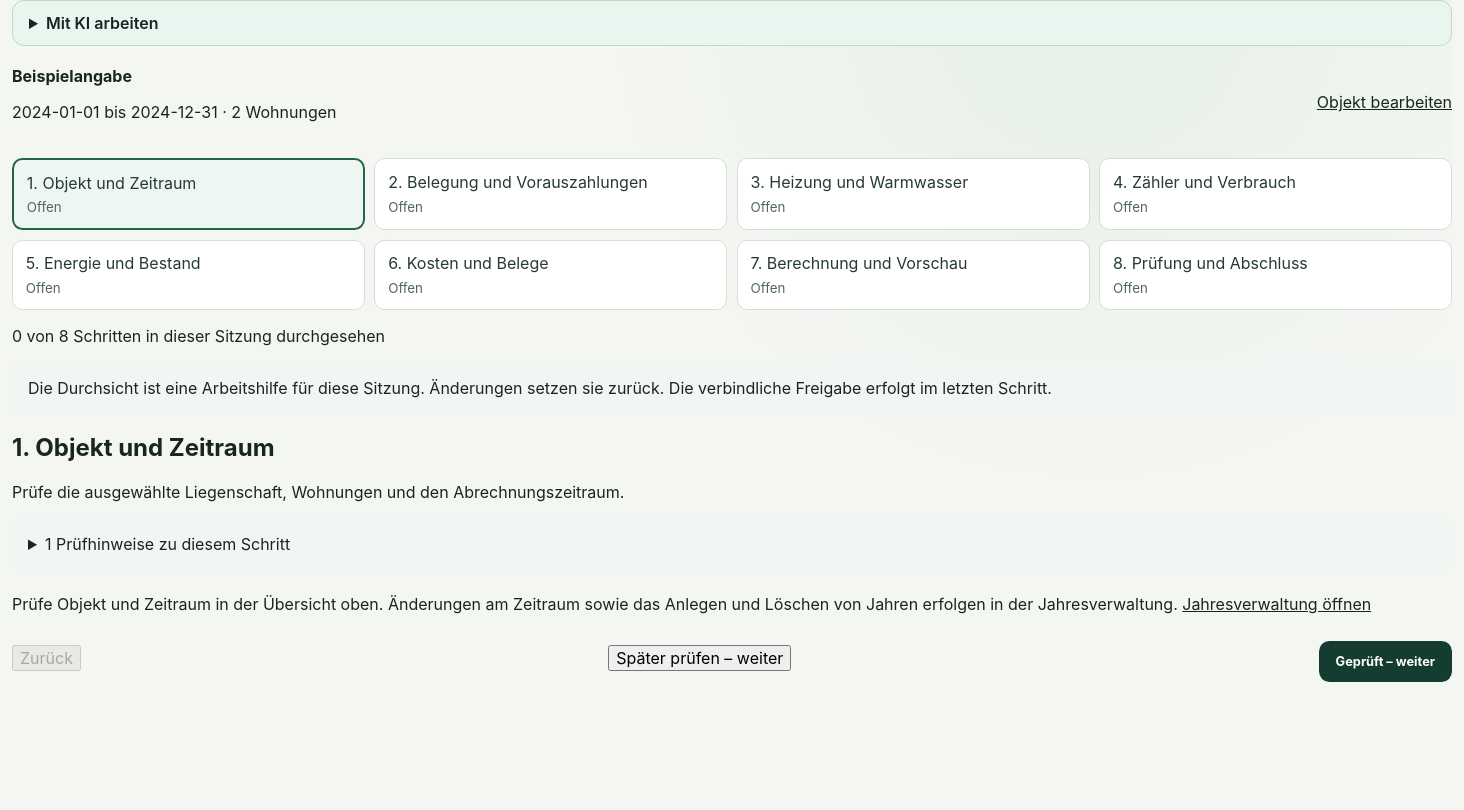
Test case: AnnualBillingRoute integration › preserves the locked-year guard inside the journey
This screenshot has width=1464, height=810.
Click the button "7. Berechnung und Vorschau Offen" at (913, 275), box 737,240 -> 1090,310
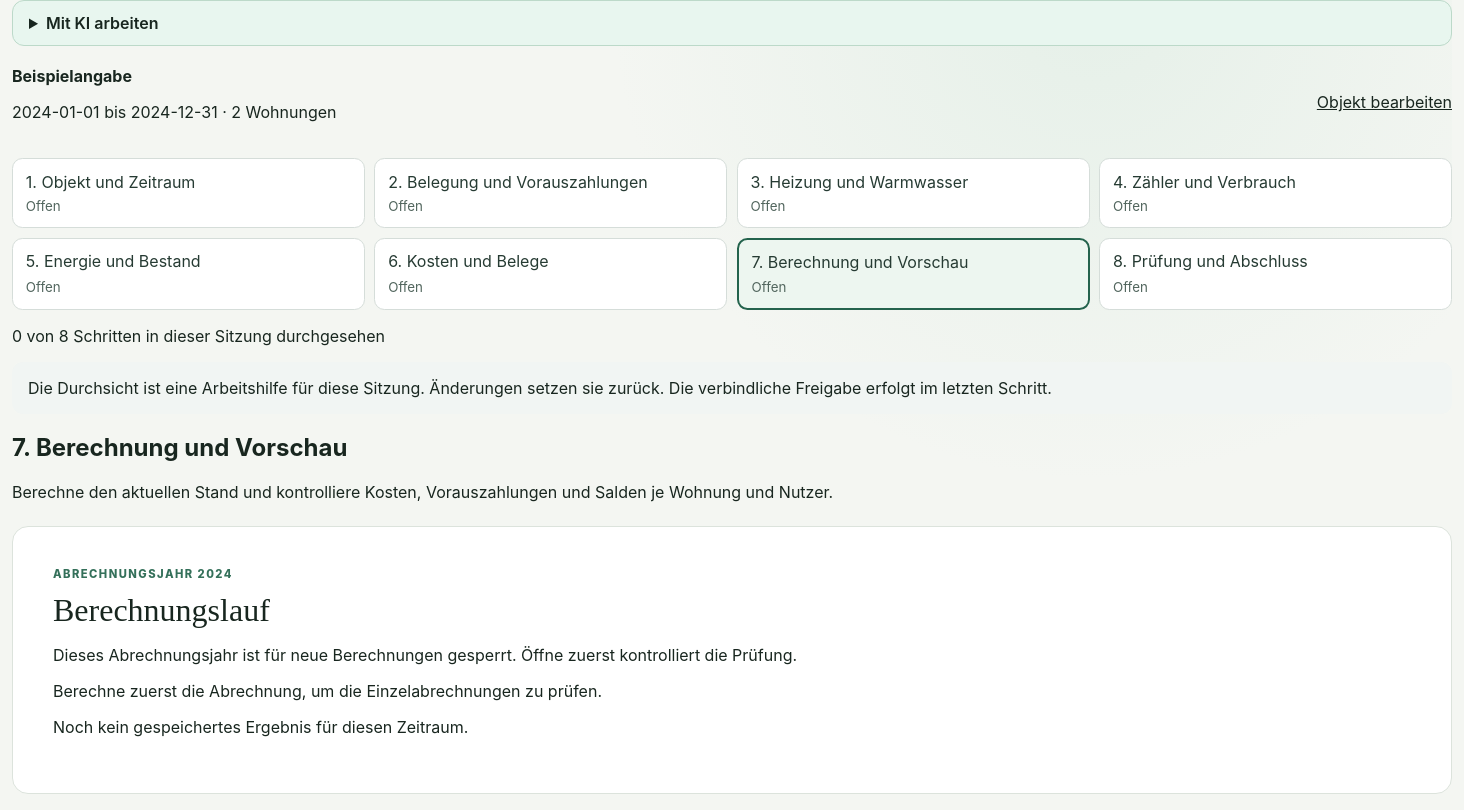
Expected: the text "für neue Berechnungen gesperrt" is shown, 53,645 -> 797,665
